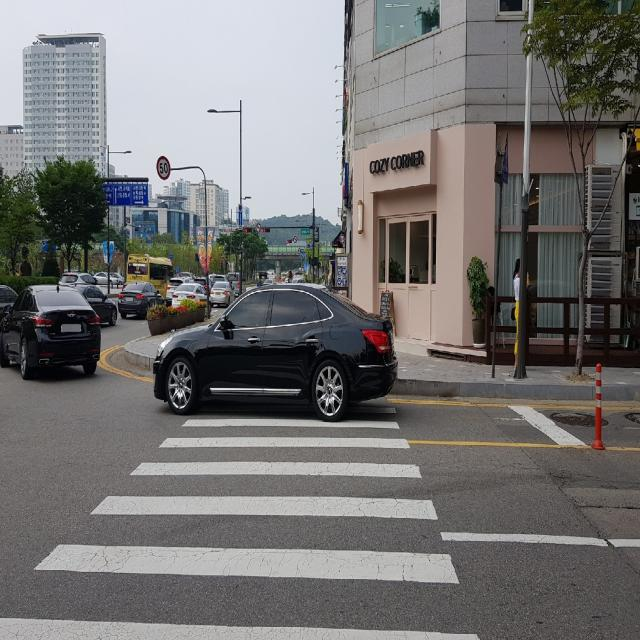횡단보도: (0, 387, 483, 640)
